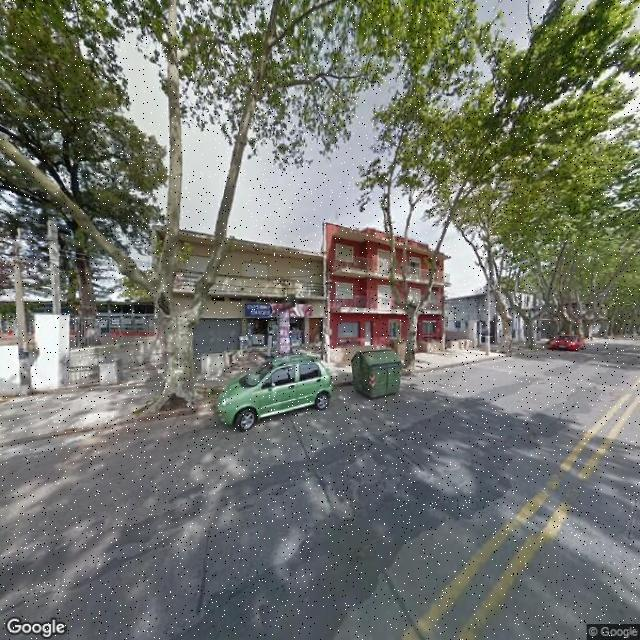garbage container: (348, 345, 409, 409)
